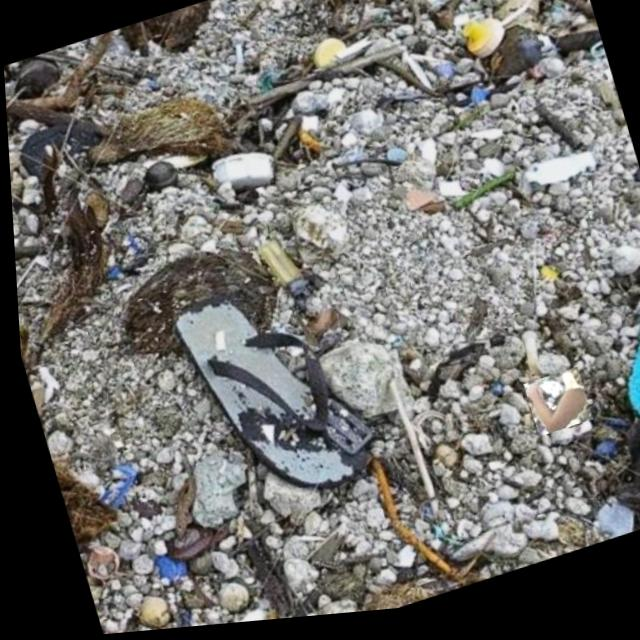Person in Rubble: (517, 376, 587, 447)
